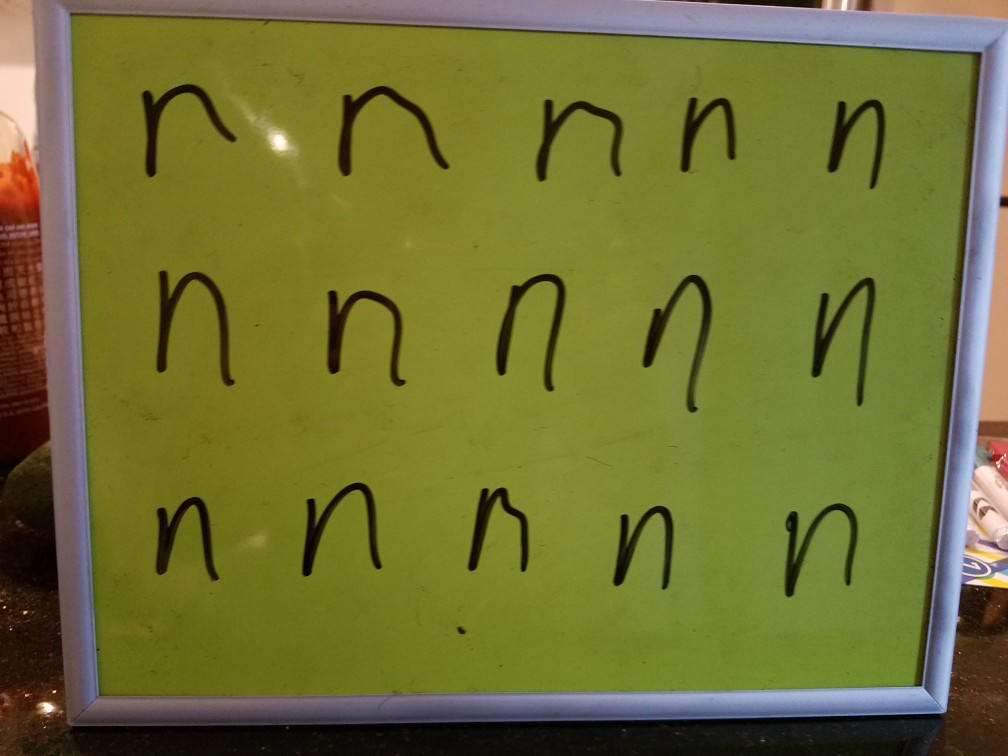n: (312, 54, 481, 209), (616, 233, 728, 429), (739, 474, 881, 627), (459, 240, 573, 395), (132, 239, 248, 388), (285, 252, 403, 398), (283, 453, 393, 597), (797, 252, 882, 427), (598, 481, 704, 616), (520, 63, 626, 195), (134, 64, 240, 192), (654, 70, 757, 195), (451, 456, 542, 597), (136, 468, 238, 585), (809, 87, 900, 197)
